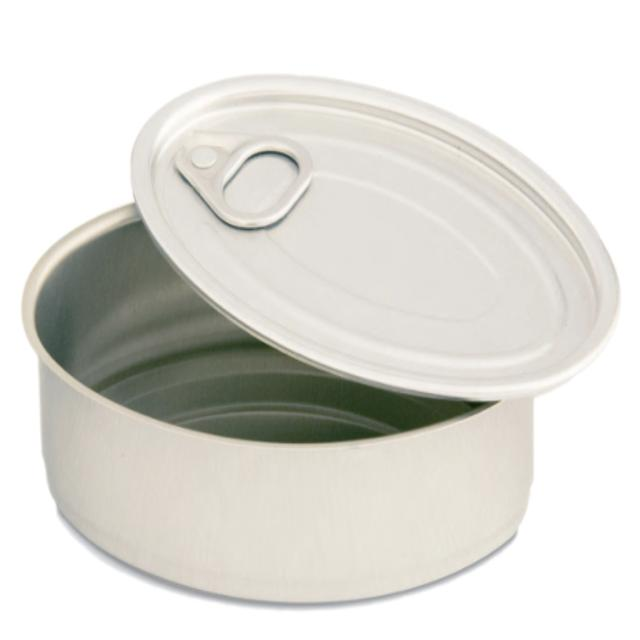recyclable: (18, 78, 630, 614)
